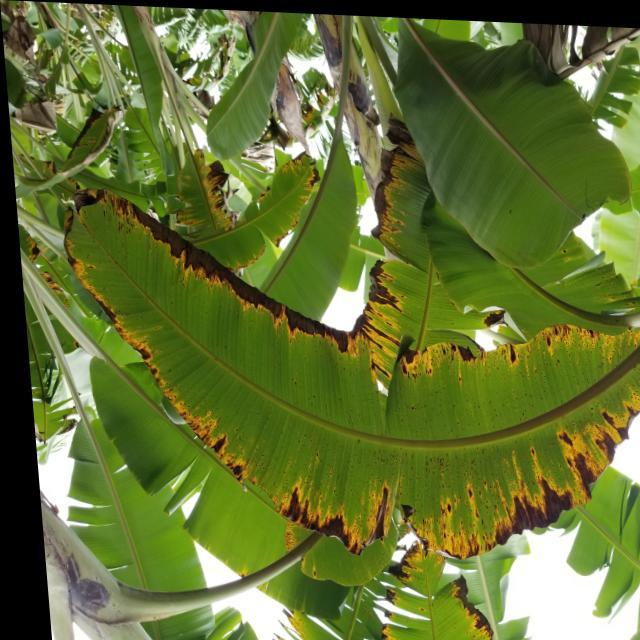Early_rust: (68, 124, 640, 537), (350, 529, 505, 640)
